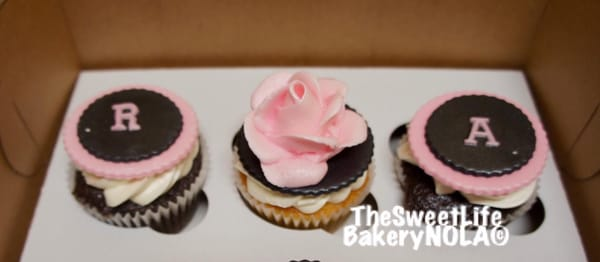sushi: (231, 70, 376, 231), (62, 85, 206, 233)
